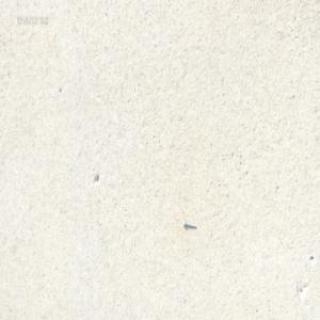Nailtrack_idkeyframe: (183, 221, 196, 229)
